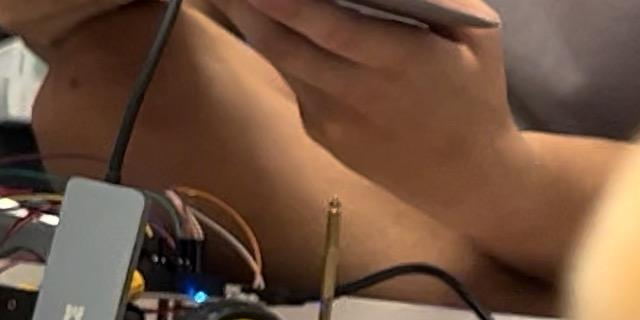burger: (495, 0, 640, 320)
